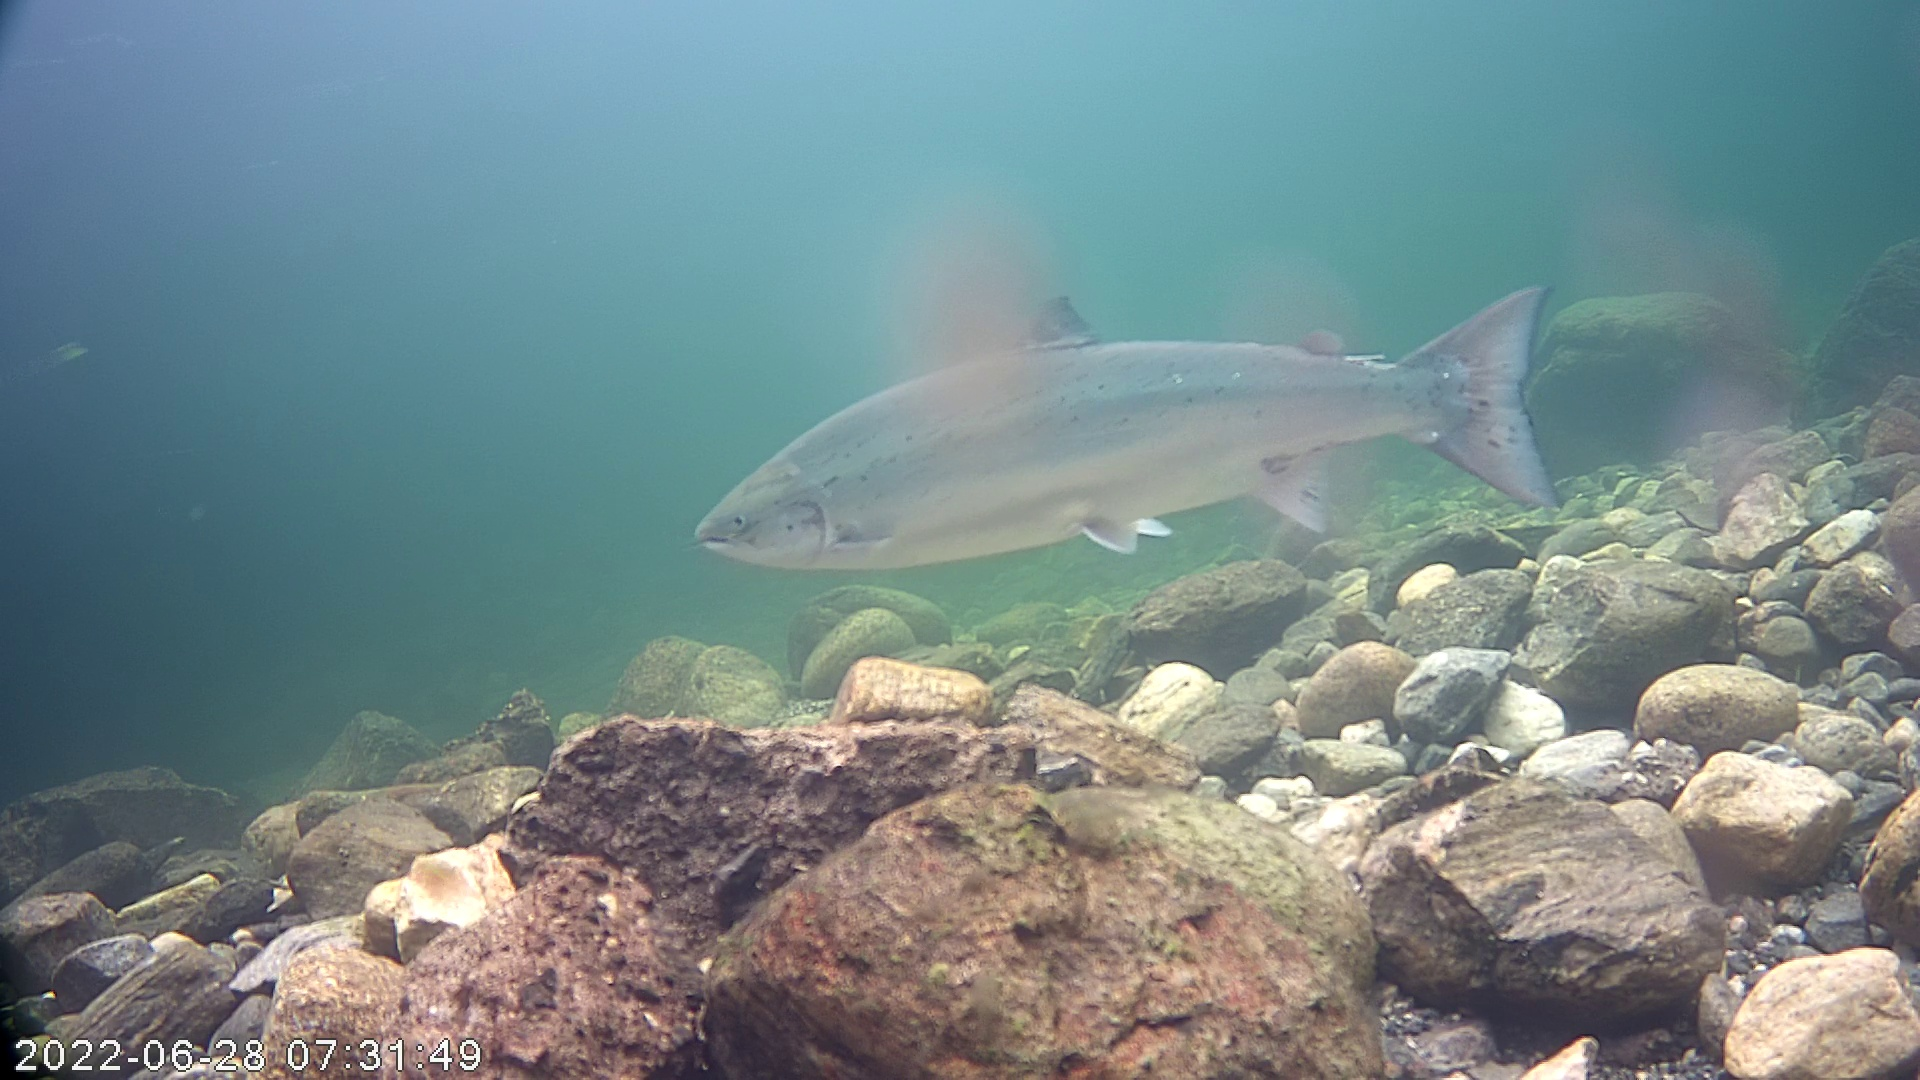salmon: (687, 211, 1585, 626)
